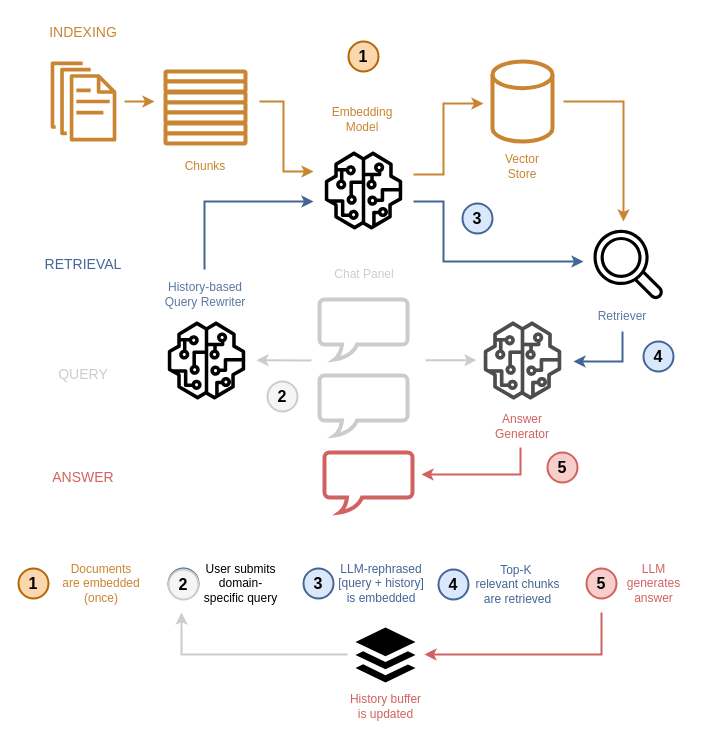
This 705x742 diagram has some shape labels left out. Each missing label, with the box of its shape:
Documents: (32, 50, 134, 152)
LLM Answer: (322, 450, 414, 514)
Previous Conversations: (317, 297, 409, 361)
User Query: (317, 373, 409, 437)
